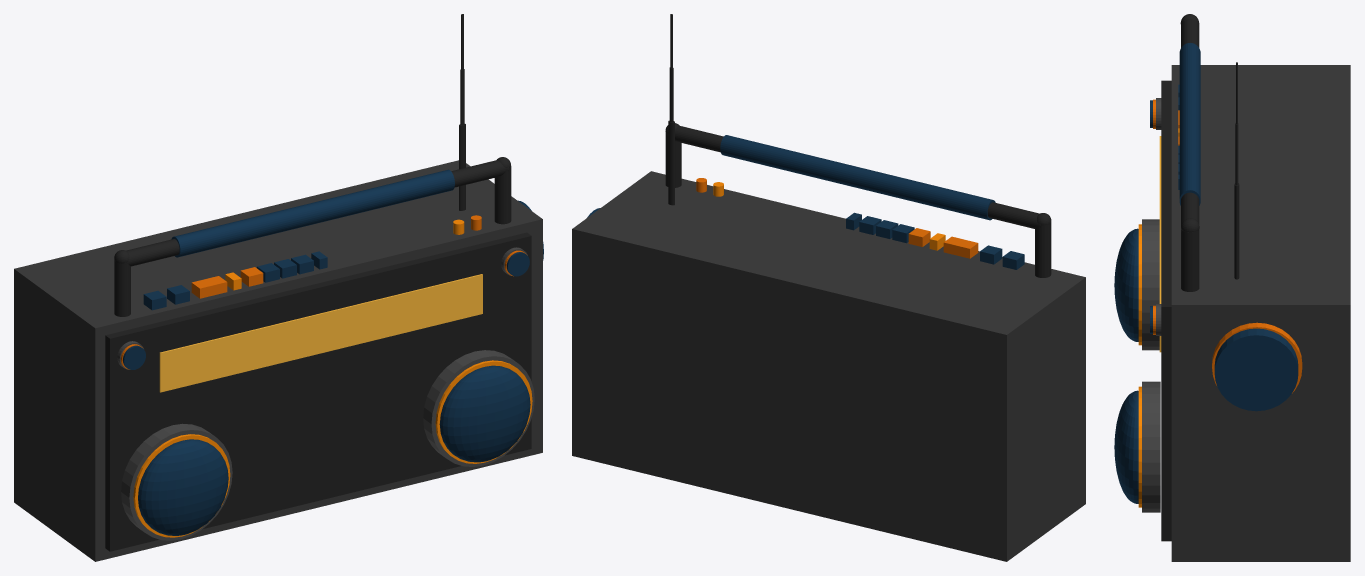
Rendered from fixed updated good BlackBoombox.fbx.
The picture shows the model from 3 angles, left to right: view 1: azimuth 30°, elevation 25°; view 2: azimuth 150°, elevation 25°; view 3: azimuth 270°, elevation 25°; orthographic projection. The views are drawn at different scales.
Parts seen in each view (by area): view 1: Cube, Cube.001, Cube.032, Sphere.001, Sphere, Cylinder.038, Cylinder.001, Cylinder, Cylinder.007, Cylinder.022, Cylinder.021, Cylinder.002 (+1 smaller); view 2: Cube.001, Cylinder.038, Cylinder.007, Cylinder.002; view 3: Cube.001, Cylinder.008, Cube, Cylinder.038, Cylinder.001, Sphere, Sphere.001, Cylinder, Cylinder.003, Cylinder.007, Cylinder.026, Cylinder.004 (+3 smaller).
Boxes of the visible parts, left/top/right/bottom form: Cube: left=105, top=232, right=531, bottom=551; Cube.001: left=14, top=160, right=542, bottom=561; Cube.032: left=159, top=274, right=482, bottom=392; Sphere.001: left=439, top=365, right=530, bottom=462; Sphere: left=138, top=439, right=228, bottom=535; Cylinder.038: left=171, top=169, right=454, bottom=257; Cylinder.001: left=423, top=350, right=534, bottom=466; Cylinder: left=121, top=423, right=232, bottom=540; Cylinder.007: left=125, top=160, right=508, bottom=266; Cylinder.022: left=435, top=360, right=532, bottom=463; Cylinder.021: left=133, top=434, right=230, bottom=537; Cylinder.002: left=114, top=260, right=130, bottom=316; Cube.001: left=572, top=171, right=1085, bottom=561; Cylinder.038: left=720, top=135, right=995, bottom=220; Cylinder.007: left=667, top=125, right=1040, bottom=228; Cylinder.002: left=1035, top=223, right=1051, bottom=277; Cube.001: left=1171, top=65, right=1350, bottom=561; Cylinder.008: left=1214, top=328, right=1298, bottom=411; Cube: left=1161, top=80, right=1171, bottom=541; Cylinder.038: left=1179, top=43, right=1200, bottom=205; Cylinder.001: left=1142, top=381, right=1160, bottom=512; Sphere: left=1114, top=228, right=1138, bottom=341; Sphere.001: left=1114, top=390, right=1138, bottom=503; Cylinder: left=1142, top=219, right=1159, bottom=350; Cylinder.003: left=1181, top=229, right=1199, bottom=291; Cylinder.007: left=1181, top=19, right=1199, bottom=231; Cylinder.026: left=1212, top=322, right=1302, bottom=393; Cylinder.004: left=1234, top=183, right=1239, bottom=279.
Bounding box in the file's own units: 6439 × 5639 × 2559.
